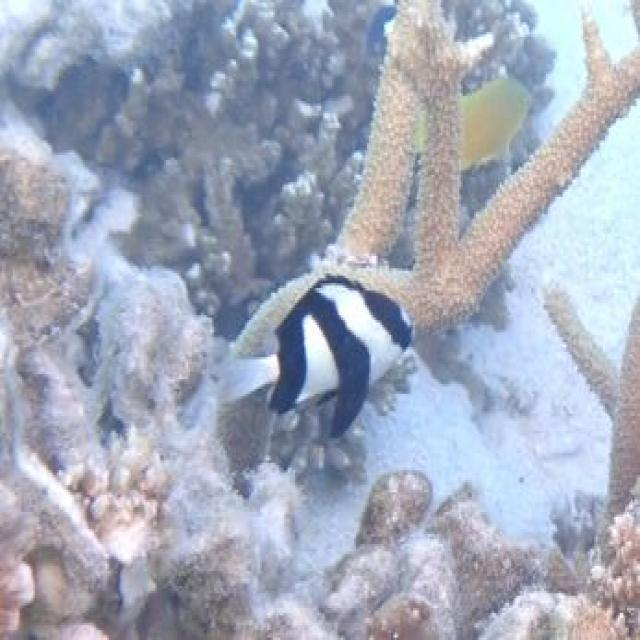ThreeStripedDamselfish: (221, 278, 413, 438)
